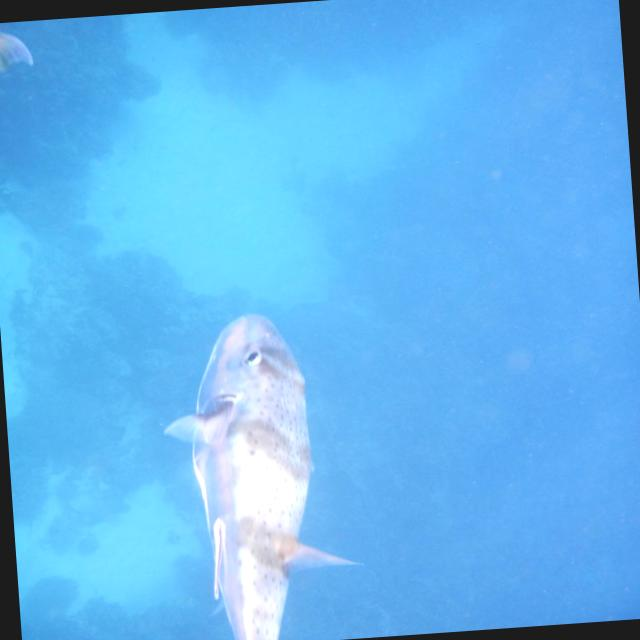Balon Baligi: (154, 303, 371, 640)
